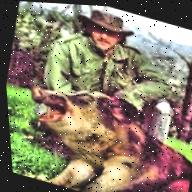boar: (14, 66, 192, 192)
